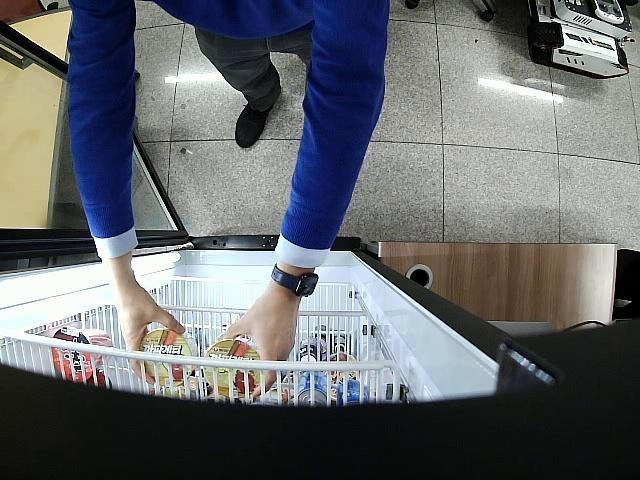04_chapagetti_S: (204, 338, 261, 400), (140, 327, 198, 386)
